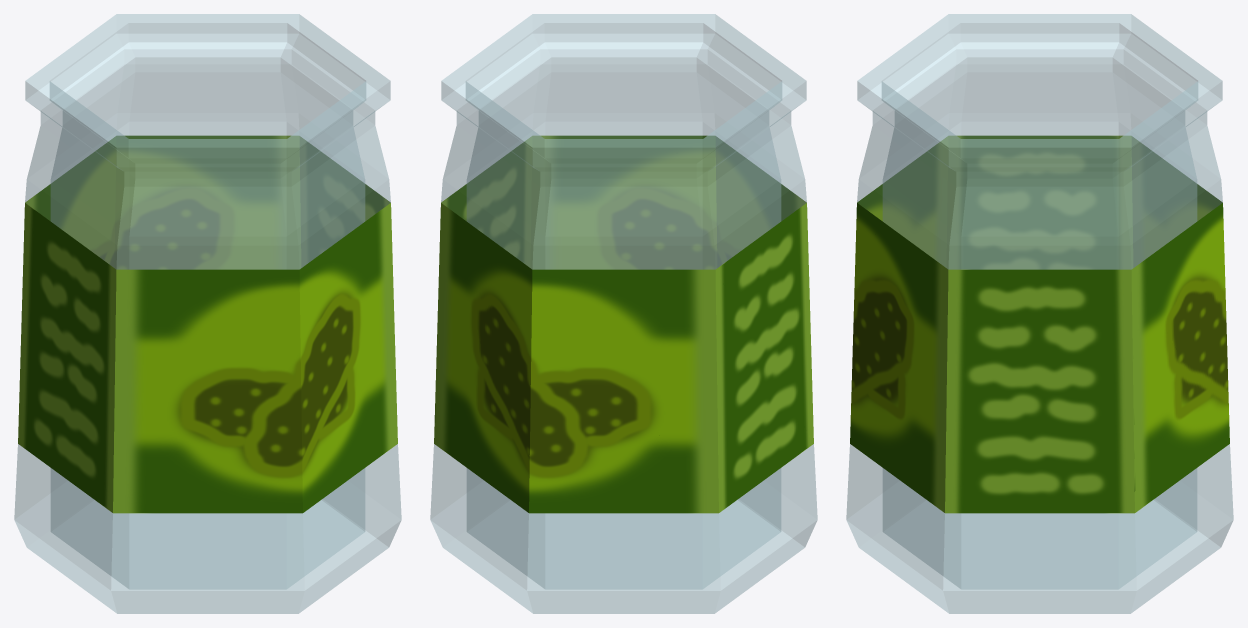
Rendered from jar_cornishons.fbx.
The picture shows the model from 3 angles, left to right: view 1: azimuth 30°, elevation 25°; view 2: azimuth 150°, elevation 25°; view 3: azimuth 270°, elevation 25°; orthographic projection.
Parts seen in each view (by area): view 1: jar_cornishons; view 2: jar_cornishons; view 3: jar_cornishons.
Boxes of the visible parts, bbox=[...] form: jar_cornishons: bbox=[14, 14, 401, 613]; jar_cornishons: bbox=[430, 14, 817, 613]; jar_cornishons: bbox=[846, 14, 1233, 613].
Bounding box in the file's own units: 85.8 × 132 × 99.07.
